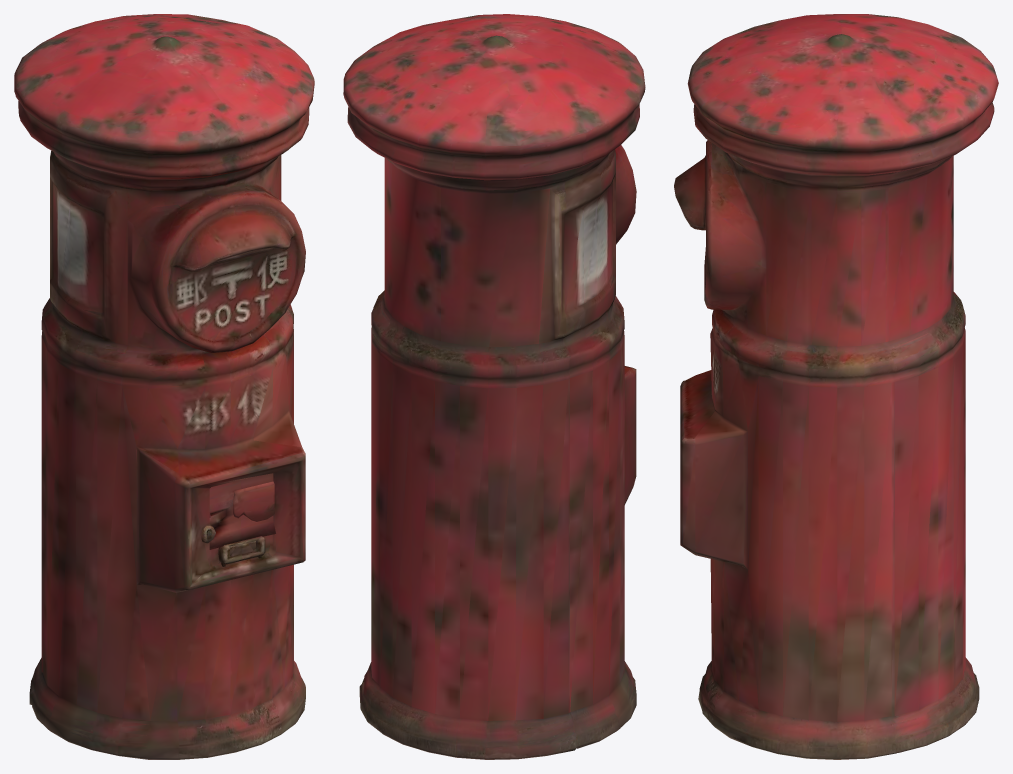
Rendered from post-transformed.glb.
The picture shows the model from 3 angles, left to right: view 1: azimuth 30°, elevation 25°; view 2: azimuth 150°, elevation 25°; view 3: azimuth 270°, elevation 25°; orthographic projection.
Bounding box in the file's own units: 0.809 × 2 × 0.883.
Materials: 1 (1 with a texture image).
